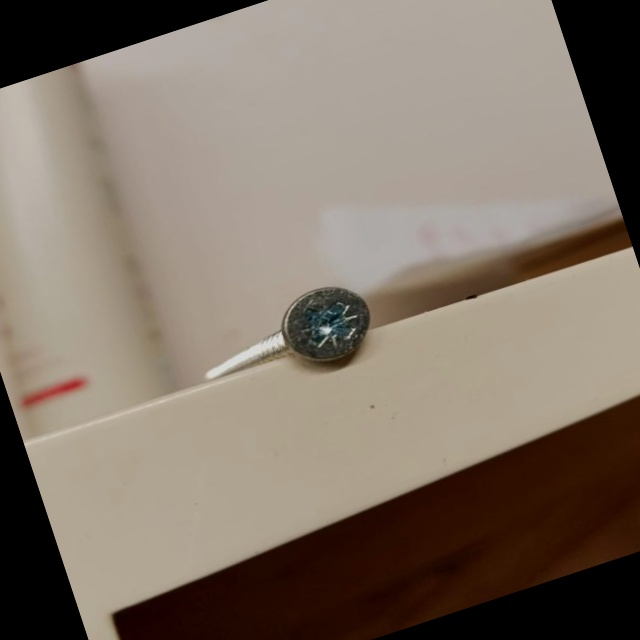pozidriv: (272, 274, 381, 373)
